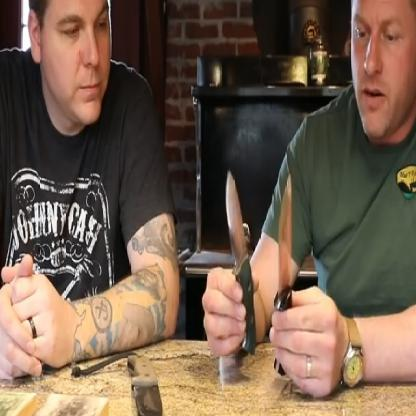knife: (266, 160, 340, 345), (201, 160, 259, 326)
